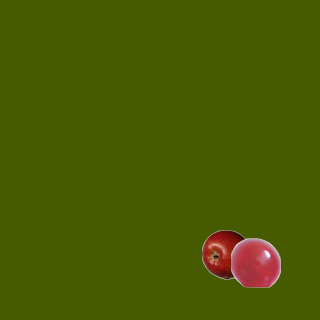Apple Braeburn: (201, 229, 251, 279)
Redcurrant: (230, 237, 280, 287)
